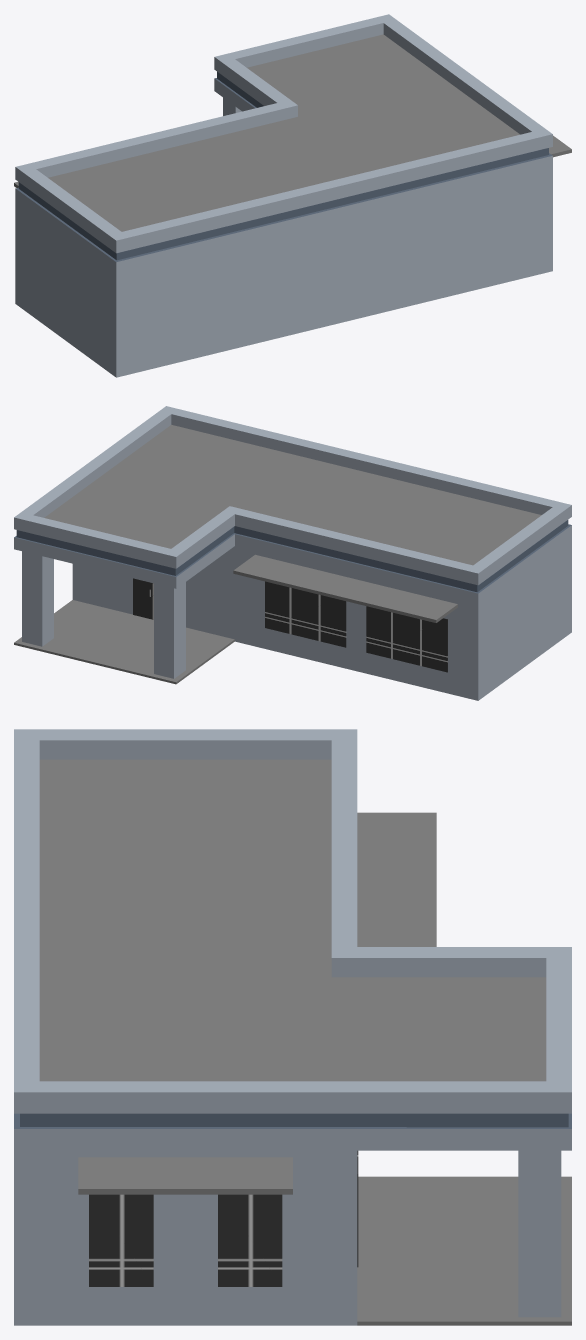
Rendered from spw-urban-bldg-small-02.glb.
The picture shows the model from 3 angles, top to bottom: view 1: azimuth 30°, elevation 25°; view 2: azimuth 150°, elevation 25°; view 3: azimuth 270°, elevation 25°; orthographic projection. The views are drawn at different scales.
Parts seen in each view (by area): view 1: SPW_Urban_Bldg_Small_02; view 2: SPW_Urban_Bldg_Small_02; view 3: SPW_Urban_Bldg_Small_02.
Boxes of the visible parts, x1=… form: SPW_Urban_Bldg_Small_02: x1=14, y1=14, x2=571, y2=377; SPW_Urban_Bldg_Small_02: x1=14, y1=406, x2=571, y2=700; SPW_Urban_Bldg_Small_02: x1=14, y1=729, x2=571, y2=1325.
Bounding box in the file's own units: 21.74 × 6 × 13.
1 material, 1 textured.
